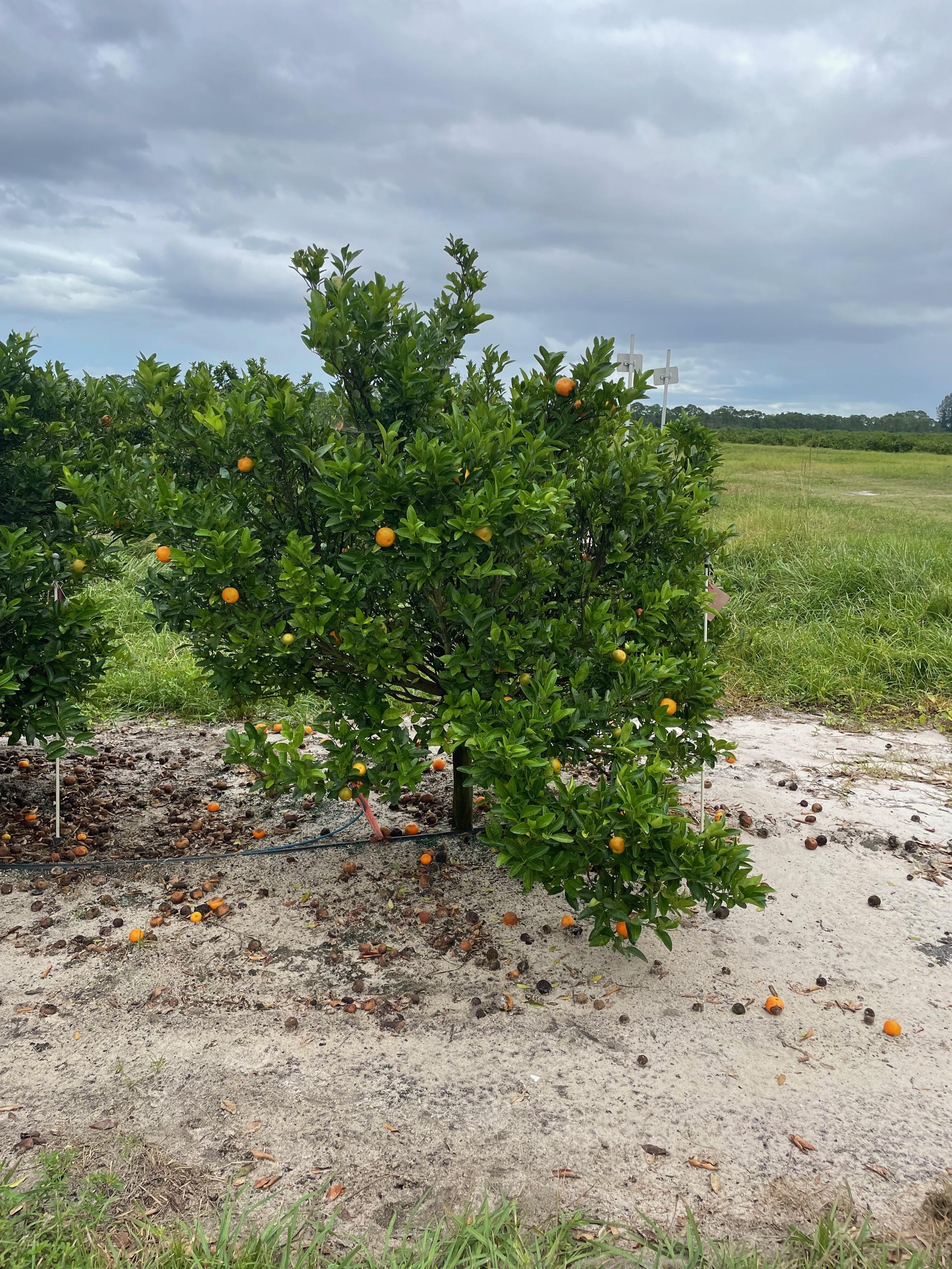fruit_on_ground: (450, 462, 477, 488), (105, 507, 131, 532), (469, 520, 495, 545), (373, 523, 398, 548), (553, 375, 578, 398), (614, 917, 637, 940), (656, 695, 680, 717), (571, 396, 593, 419), (235, 453, 257, 475), (219, 584, 242, 605), (70, 556, 92, 577), (607, 834, 629, 855), (326, 627, 347, 648), (544, 755, 565, 776), (599, 396, 620, 416), (154, 544, 174, 564), (279, 629, 298, 648), (610, 647, 629, 665), (98, 412, 117, 429), (349, 760, 368, 777), (516, 669, 534, 686), (337, 786, 354, 802), (579, 551, 595, 567), (633, 605, 649, 621), (255, 722, 268, 734), (502, 693, 514, 704)
fruit_on_tree: (763, 993, 786, 1015), (882, 1017, 903, 1037), (500, 909, 520, 926), (559, 912, 576, 928), (473, 792, 489, 808), (431, 757, 447, 773), (128, 926, 144, 942), (207, 896, 224, 911), (403, 820, 420, 835), (281, 808, 299, 822), (148, 912, 164, 927), (803, 836, 819, 851), (417, 789, 434, 803), (315, 906, 330, 921), (418, 873, 433, 888), (214, 902, 230, 916), (341, 859, 357, 873), (23, 809, 38, 823), (173, 835, 189, 848), (419, 851, 433, 865), (170, 889, 184, 903), (189, 818, 204, 831), (270, 720, 283, 734), (398, 792, 412, 805), (189, 910, 203, 923), (74, 844, 89, 856), (359, 941, 373, 953), (214, 778, 228, 790), (62, 774, 76, 786), (17, 757, 31, 769), (252, 826, 266, 838), (158, 900, 171, 912), (301, 799, 314, 811), (162, 781, 175, 793), (207, 800, 220, 812), (75, 830, 89, 841), (381, 825, 393, 837), (811, 801, 823, 813), (805, 813, 818, 824), (169, 759, 182, 770), (713, 811, 726, 822), (191, 887, 204, 898), (1, 831, 12, 843), (376, 941, 388, 952), (301, 725, 313, 736), (725, 753, 737, 764), (74, 764, 86, 774)
